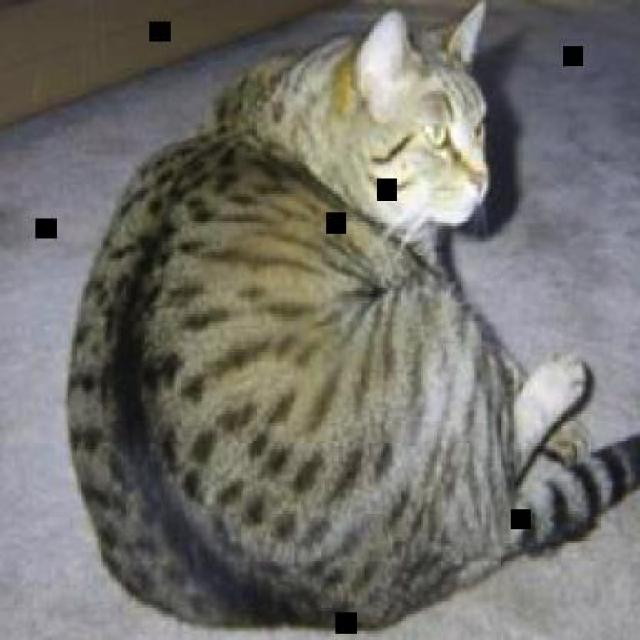cat: (67, 0, 638, 632)
